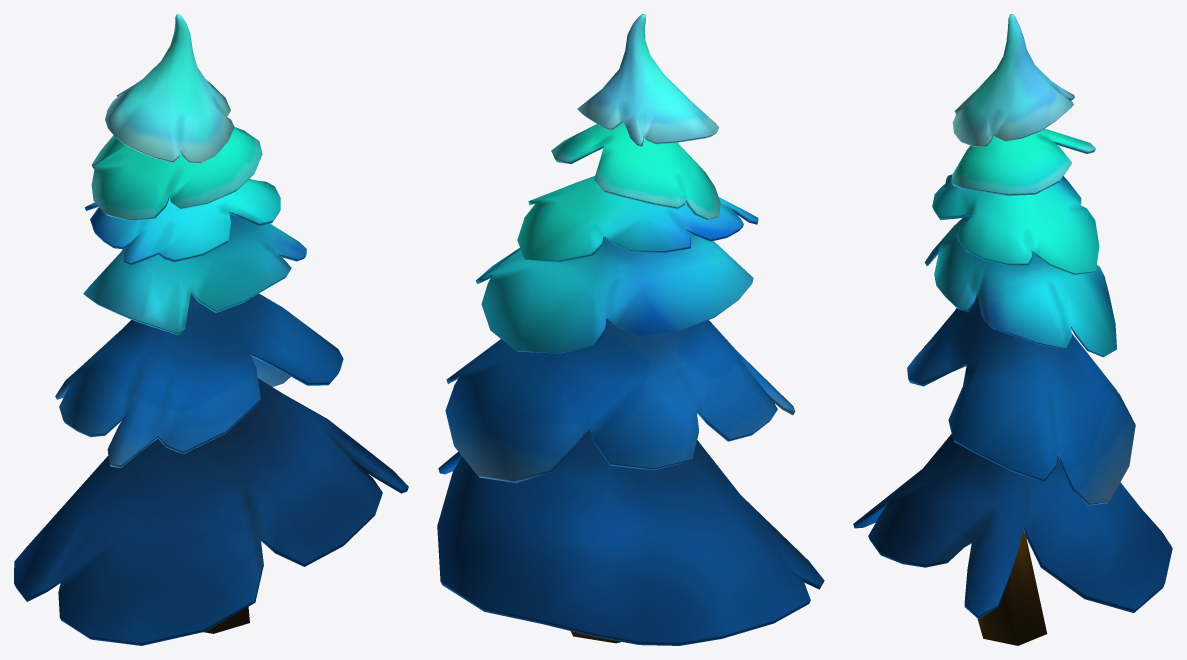
Rendered from TreeStyle2Blue_01.fbx.
3 views of the same model, side by side, from view 1: azimuth 30°, elevation 25°; view 2: azimuth 150°, elevation 25°; view 3: azimuth 270°, elevation 25° (orthographic). The views are drawn at different scales.
Visible parts, largest first — view 1: TreeStyle2_01; view 2: TreeStyle2_01; view 3: TreeStyle2_01.
Part boxes in pixels (bbox=[...]): TreeStyle2_01: bbox=[14, 14, 408, 645]; TreeStyle2_01: bbox=[437, 14, 824, 645]; TreeStyle2_01: bbox=[853, 14, 1172, 645].
Bounding box in the file's own units: 867 × 1362 × 661.
